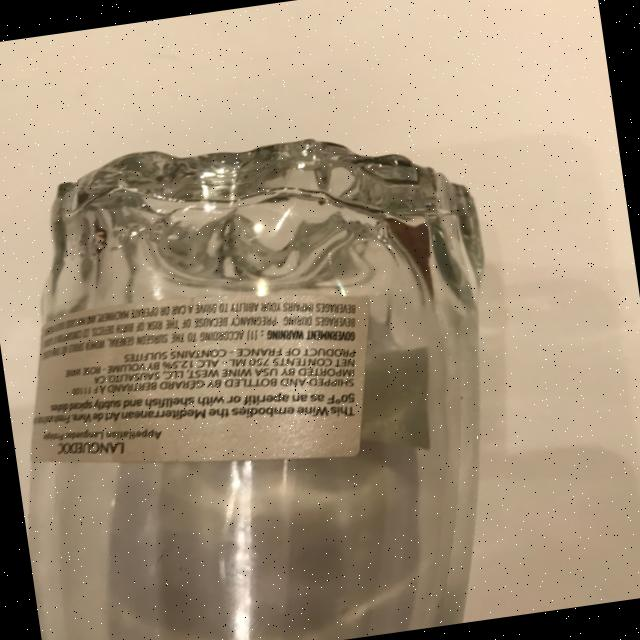glass: (0, 106, 535, 640)
